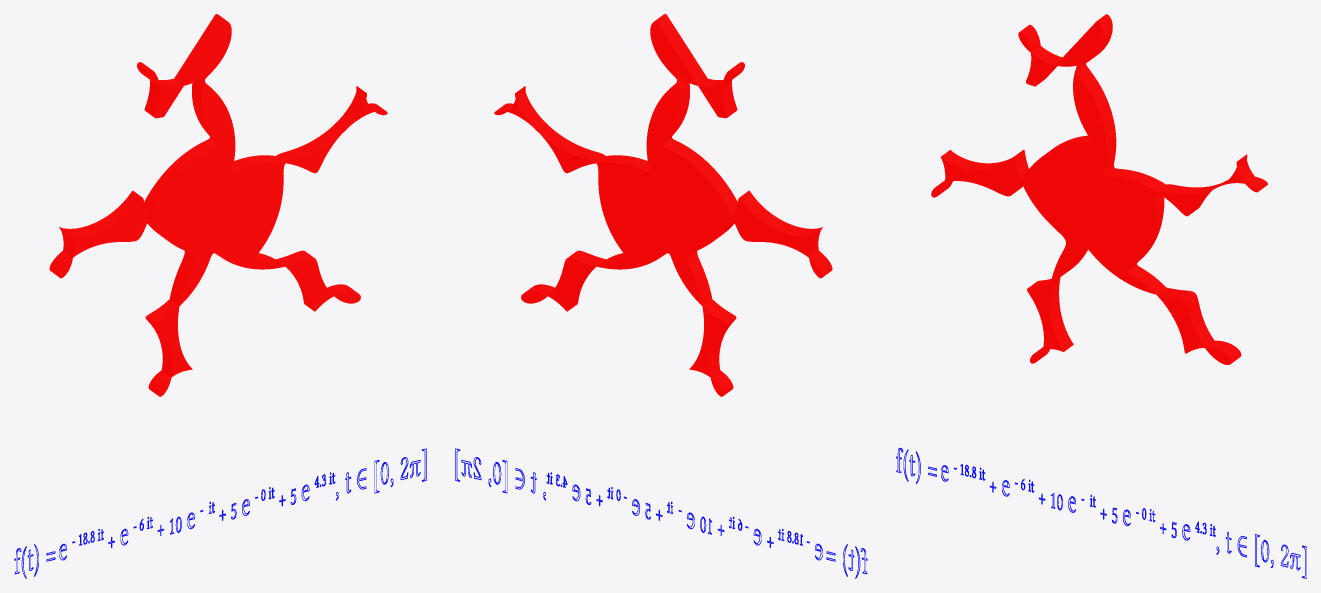
The model's file is SimpleBeauty12.glb.
3 views of the same model, side by side, from view 1: azimuth 30°, elevation 25°; view 2: azimuth 150°, elevation 25°; view 3: azimuth 330°, elevation 25° (orthographic).
Bounding box in the file's own units: 1.2 × 1.43 × 0.05.
